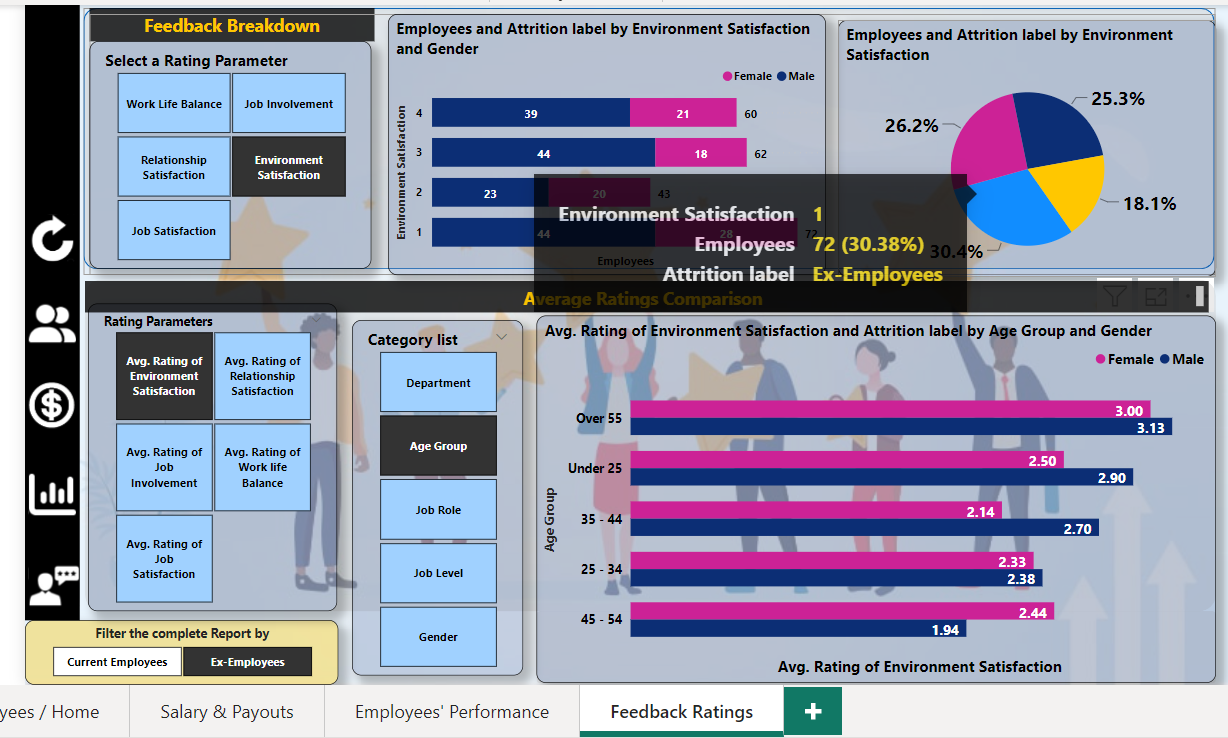

The dashboard page shown, as its layout file describes it:
{"tool":"powerbi","page":{"name":"Feedback Ratings","canvas":[1280,720],"ordinal":3},"visuals":[{"type":"shape","box":[0,0,58.2,652],"z":0,"group":"g4"},{"type":"shape","box":[62,3.2,1198.3,276.7],"z":0,"group":"g3"},{"type":"slicer","fields":{"Values":["Set of Rating Matrices.Set of Rating Matrices"]},"box":[68.8,38.1,298.8,241.6],"z":0,"group":"g2"},{"type":"actionButton","box":[0,215.2,58.2,64.7],"z":0,"group":"g1"},{"type":"slicer","title":"Filter the complete Report by","fields":{"Values":["Employees.attrition label"]},"box":[0,651.7,331.7,68.3],"z":0},{"type":"textbox","box":[68.6,3.2,301.7,35],"z":1000,"group":"g3"},{"type":"pieChart","fields":{"Category":["Ratings.Work Life Balance (Rating)"],"Y":["Measures Table.#1 Total Employees"]},"box":[862.2,15,400.5,271.8],"z":1000,"group":"g2"},{"type":"group","id":"g1","title":"Group 6","box":[0,215.2,69.6,432],"z":1000,"group":"g4"},{"type":"actionButton","box":[0,309,58.2,58.2],"z":1000,"group":"g1"},{"type":"shape","box":[542.3,642.6,720,76.7],"z":1000,"group":"g5"},{"type":"group","id":"g2","title":"Group 1","box":[68.8,9.2,1193.9,277.6],"z":2000,"group":"g3"},{"type":"barChart","fields":{"Category":["Ratings.Work Life Balance (Rating)"],"Y":["Measures Table.#1 Total Employees"],"Series":["Employees.Gender"]},"box":[385.4,9.2,464.1,276.6],"z":2000,"group":"g2"},{"type":"shape","box":[64,290.9,1198.3,351.7],"z":2000,"group":"g5"},{"type":"actionButton","box":[0,396.4,58.2,56.6],"z":2000,"group":"g1"},{"type":"actionButton","box":[0,482.2,58.2,74.4],"z":3000,"group":"g1"},{"type":"group","id":"g3","title":"Feedback Breakdown","box":[62,3.2,1200.8,283.6],"z":4000},{"type":"actionButton","box":[0,585.7,69.6,61.5],"z":4000,"group":"g1"},{"type":"slicer","fields":{"Values":["#Parameter- Avg Ratings.#Parameter- Avg Ratings"]},"box":[66.7,316.2,263.8,325.8],"z":5000,"group":"g5"},{"type":"group","id":"g4","title":"Navigation Bar #group","box":[0,0,69.6,652],"z":6000},{"type":"slicer","fields":{"Values":["#Parameter- Category list.#Parameter- Category list"]},"box":[347.2,334,181.2,376.7],"z":7000,"group":"g5"},{"type":"clusteredBarChart","fields":{"Category":["Employees.Department"],"Y":["Measures Table.**Rating avg- Environment Satisfaction"],"Series":["Employees.Gender"]},"box":[542,329,720,389.4],"z":8000,"group":"g5"},{"type":"textbox","box":[63.6,292.3,1190.5,33],"z":9000,"group":"g5"},{"type":"group","id":"g5","title":"Group 2","box":[63.6,290.9,1198.7,428.3],"z":9001}]}

Visuals, with their boxes on the page's 1280x720 design canvas (x1, y1, x2, y2). These are canvas units, not pixel positions in the 1228x738 screenshot, which may show the page scaled, cropped or inside an application window:
shape: [0,0,58,652]
shape: [62,3,1260,280]
slicer - Set of Rating Matrices.Set of Rating Matrices: [69,38,368,280]
actionButton: [0,215,58,280]
"Filter the complete Report by" slicer: [0,652,332,720]
textbox: [69,3,370,38]
pieChart - Ratings.Work Life Balance (Rating) x Measures Table.#1 Total Employees: [862,15,1263,287]
"Group 6" group: [0,215,70,647]
actionButton: [0,309,58,367]
shape: [542,643,1262,719]
"Group 1" group: [69,9,1263,287]
barChart - Ratings.Work Life Balance (Rating) x Measures Table.#1 Total Employees: [385,9,850,286]
shape: [64,291,1262,643]
actionButton: [0,396,58,453]
actionButton: [0,482,58,557]
"Feedback Breakdown" group: [62,3,1263,287]
actionButton: [0,586,70,647]
slicer - #Parameter- Avg Ratings.#Parameter- Avg Ratings: [67,316,330,642]
"Navigation Bar #group" group: [0,0,70,652]
slicer - #Parameter- Category list.#Parameter- Category list: [347,334,528,711]
clusteredBarChart - Employees.Department x Measures Table.**Rating avg- Environment Satisfaction: [542,329,1262,718]
textbox: [64,292,1254,325]
"Group 2" group: [64,291,1262,719]
